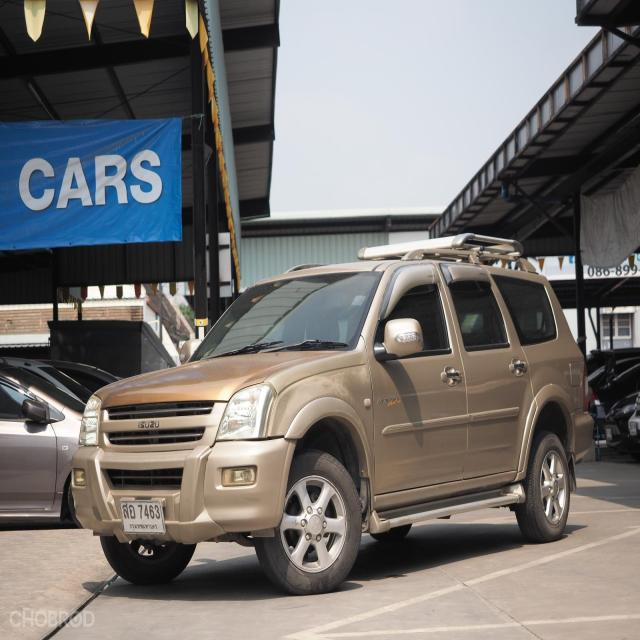license_plate: (118, 496, 169, 537), (628, 420, 638, 436), (604, 427, 614, 442)
